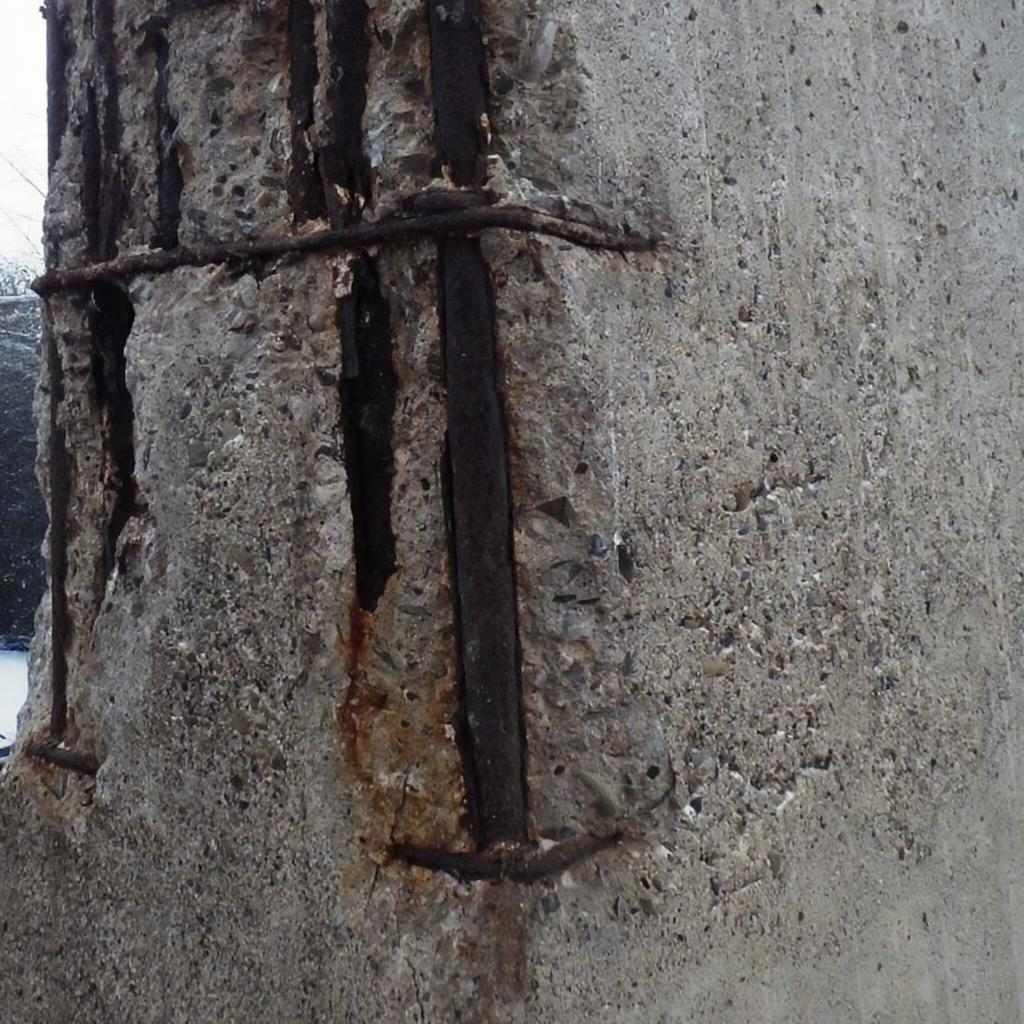exposed_rebar: (36, 0, 646, 882), (28, 332, 96, 773)
